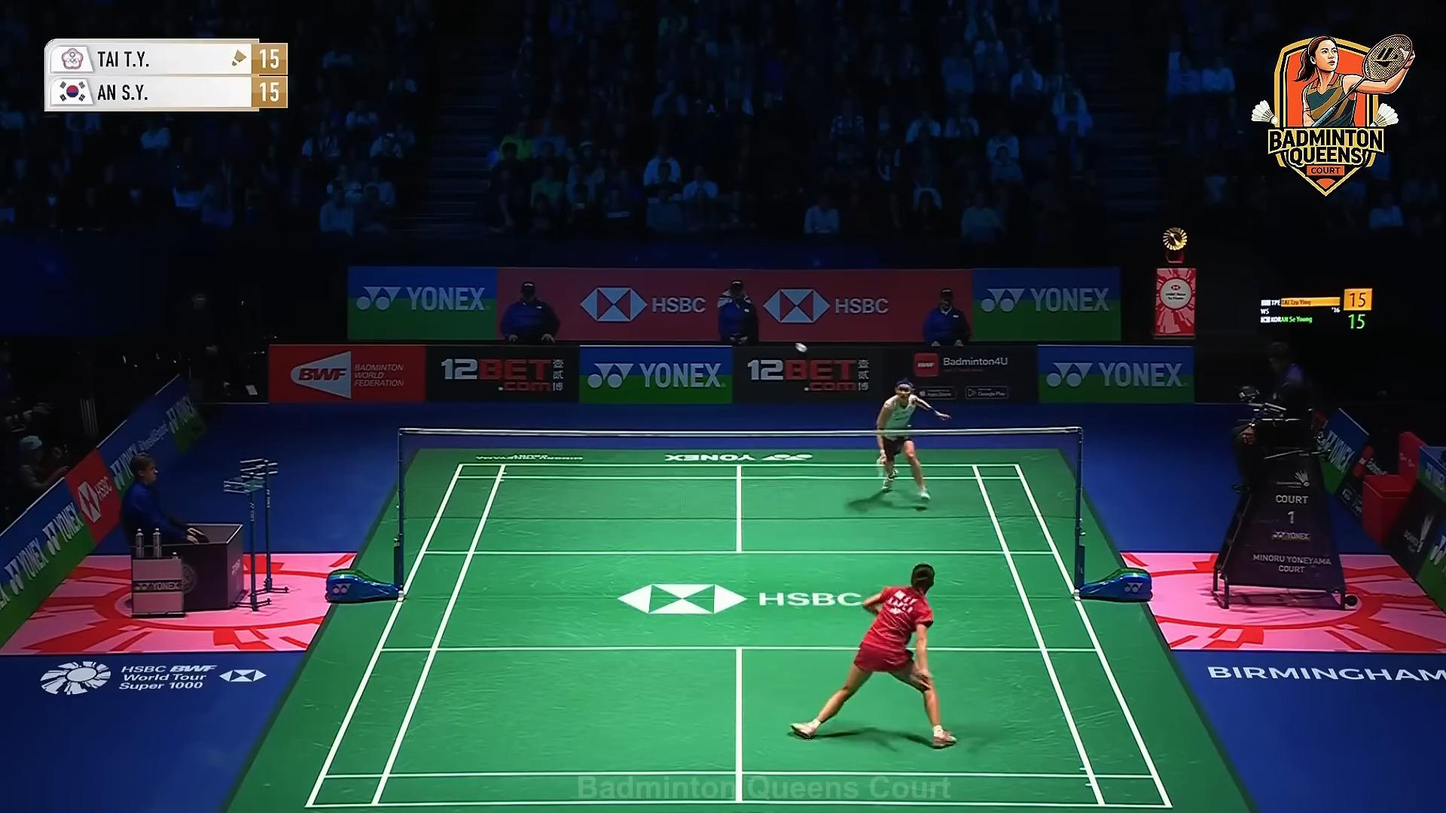shuttlecock: (795, 343, 807, 352)
